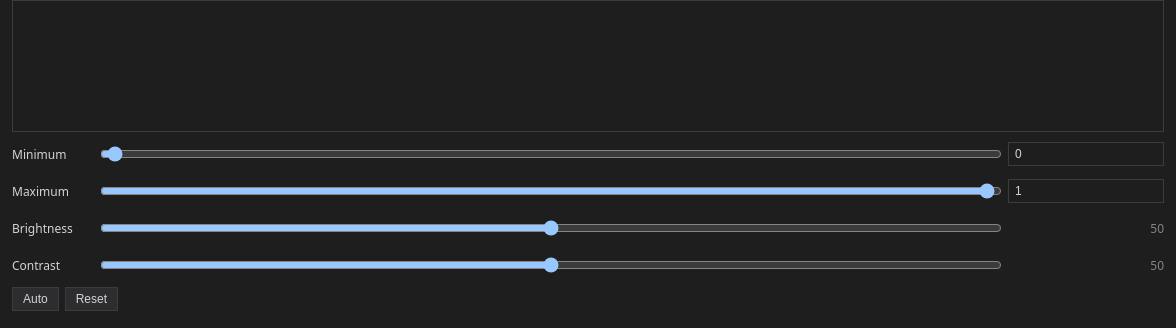
Test: DataSetForm histogram range › advances the opposite bound for Minimum outside a float64 domain
The width and height of the screenshot is (1176, 328).
Replace the text in the number field named "Minimum" with "2" at (1086, 154), box x1=1008 y1=142 x2=1164 y2=166
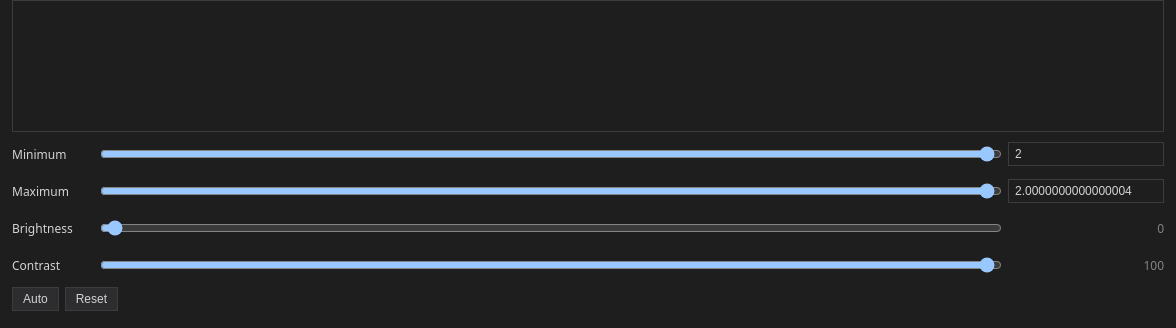
Check: the number field named "Maximum" holds "2.0000000000000004", box x1=1008 y1=179 x2=1164 y2=203
